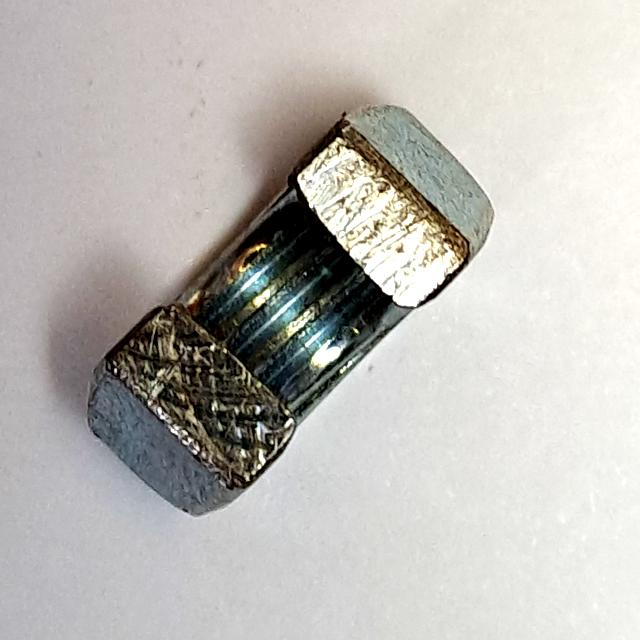Side-Fracture: (76, 94, 502, 528)
